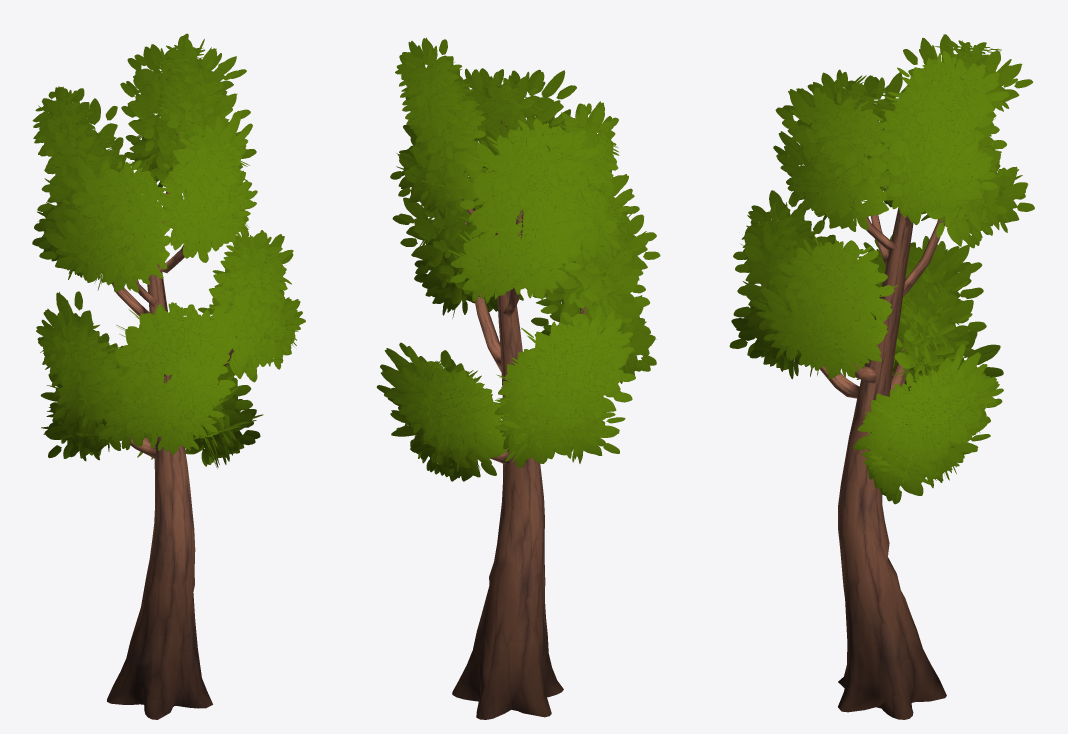
The model's file is nature-commontree-3.glb.
3 renders of one model, left to right at view 1: azimuth 30°, elevation 25°; view 2: azimuth 150°, elevation 25°; view 3: azimuth 270°, elevation 25°, orthographic. The views are drawn at different scales.
Visible parts, largest first — view 1: CommonTree_3; view 2: CommonTree_3; view 3: CommonTree_3.
Part boxes in pixels (x1,y1,x2,y2): CommonTree_3: [32, 33, 305, 719]; CommonTree_3: [376, 37, 660, 719]; CommonTree_3: [729, 34, 1034, 719].
Bounding box in the file's own units: 4.06 × 9.43 × 4.24.
Materials: 2 (2 with a texture image).
